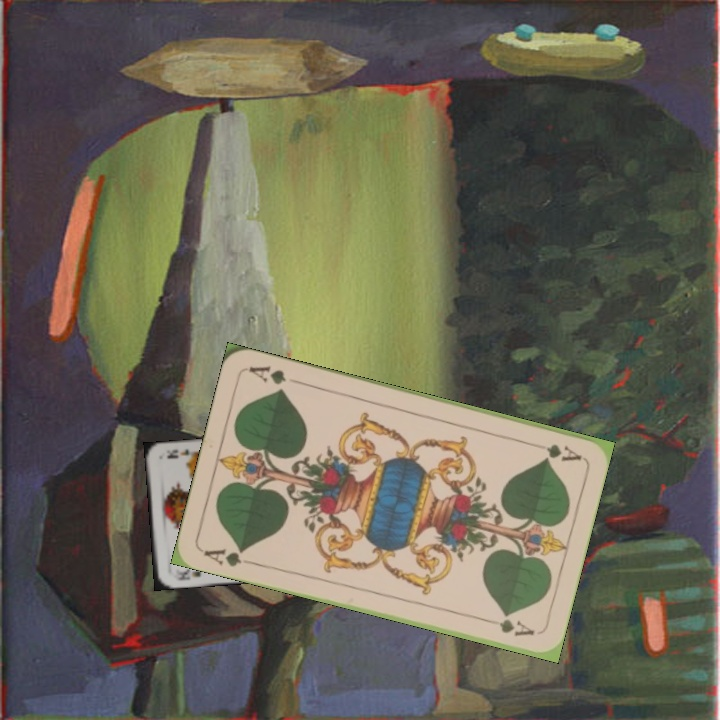EK: (168, 565, 204, 583)
GA: (200, 544, 257, 570), (542, 440, 584, 464)
